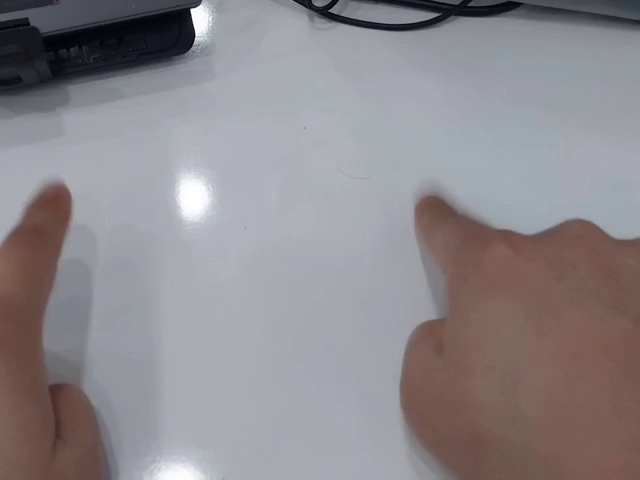fingers: (25, 181, 73, 240), (412, 194, 458, 244)
